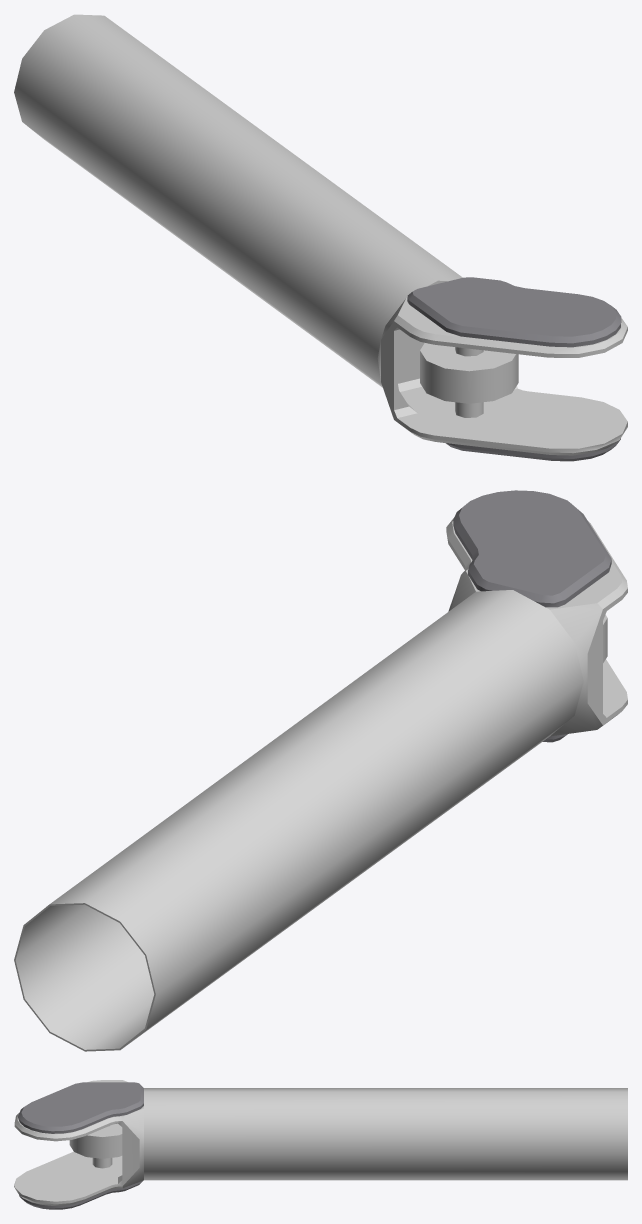
Rendered from wam3.dae.
3 views of the same model, one above another, from view 1: azimuth 30°, elevation 25°; view 2: azimuth 150°, elevation 25°; view 3: azimuth 270°, elevation 25° (orthographic). The views are drawn at different scales.
Visible parts, largest first — view 1: wamUpperArmLink3; view 2: wamUpperArmLink3; view 3: wamUpperArmLink3.
Part boxes in pixels (x1=…): wamUpperArmLink3: x1=14, y1=14, x2=627, y2=461; wamUpperArmLink3: x1=14, y1=490, x2=627, y2=1051; wamUpperArmLink3: x1=14, y1=1080, x2=627, y2=1209.
Size of the model in its own units: 0.1295 by 0.089 by 0.59.
Materials: 1 (1 with a texture image).
